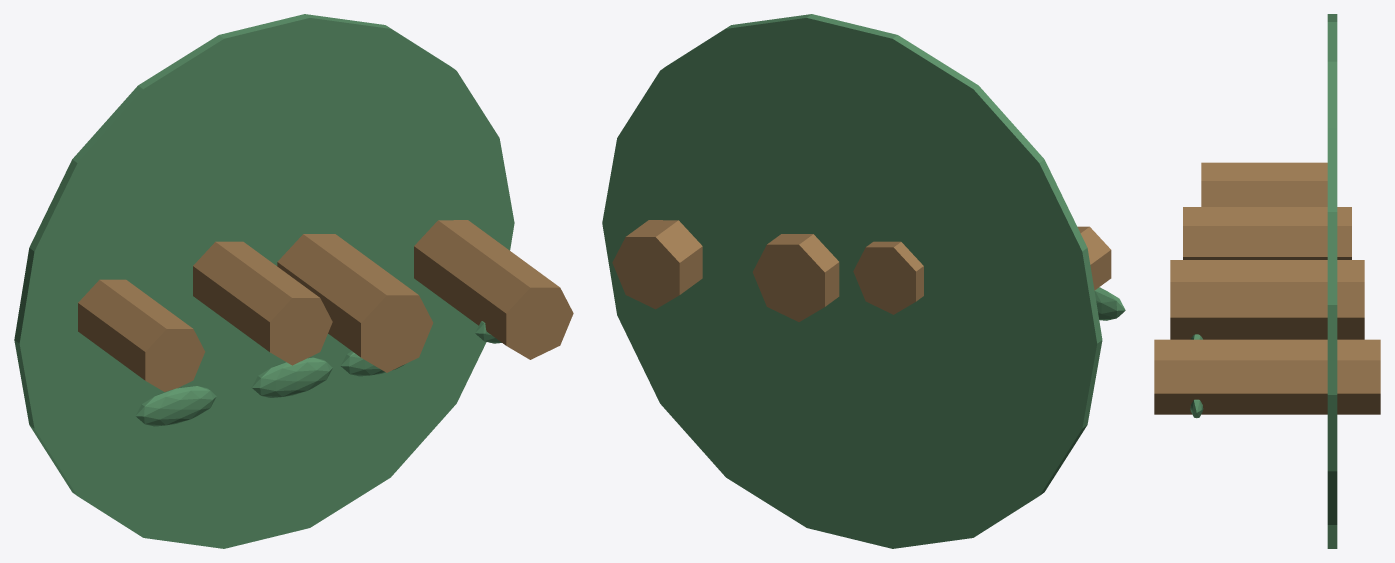
The model's file is 02_local_prop_cluster.glb.
3 views of the same model, side by side, from view 1: azimuth 30°, elevation 25°; view 2: azimuth 150°, elevation 25°; view 3: azimuth 270°, elevation 25° (orthographic). The views are drawn at different scales.
Parts seen in each view (by area): view 1: scatter_base, root_stump_3, root_stump_2, root_stump_1, root_stump_0, moss_0, moss_1; view 2: scatter_base, root_stump_3, root_stump_2, root_stump_1, root_stump_0, moss_0; view 3: root_stump_3, root_stump_2, root_stump_1, scatter_base, root_stump_0.
Boxes of the visible parts, x1,y1,x2,y2 form: scatter_base: (14, 14, 514, 548); root_stump_3: (414, 220, 573, 359); root_stump_2: (277, 234, 433, 372); root_stump_1: (193, 241, 332, 365); root_stump_0: (78, 279, 205, 391); moss_0: (135, 386, 216, 426); moss_1: (252, 357, 332, 397); scatter_base: (602, 14, 1102, 548); root_stump_3: (612, 220, 702, 309); root_stump_2: (752, 234, 839, 321); root_stump_1: (853, 241, 923, 314); root_stump_0: (1077, 226, 1111, 290); moss_0: (1094, 287, 1125, 320); root_stump_3: (1154, 339, 1380, 414); root_stump_2: (1170, 260, 1364, 339); root_stump_1: (1183, 207, 1351, 259); scatter_base: (1327, 14, 1337, 548); root_stump_0: (1201, 162, 1327, 206).
Size of the model in its own units: 1.9 by 1.87 by 0.8009.
